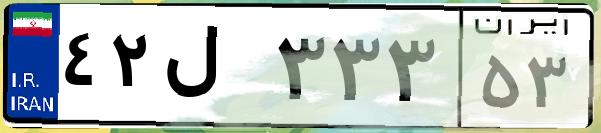2: (110, 28, 158, 98)
3: (270, 28, 330, 110), (385, 28, 445, 110), (330, 28, 385, 110), (525, 38, 570, 115)
4: (57, 26, 110, 100)
5: (475, 38, 525, 113)
ل: (158, 20, 270, 120)
